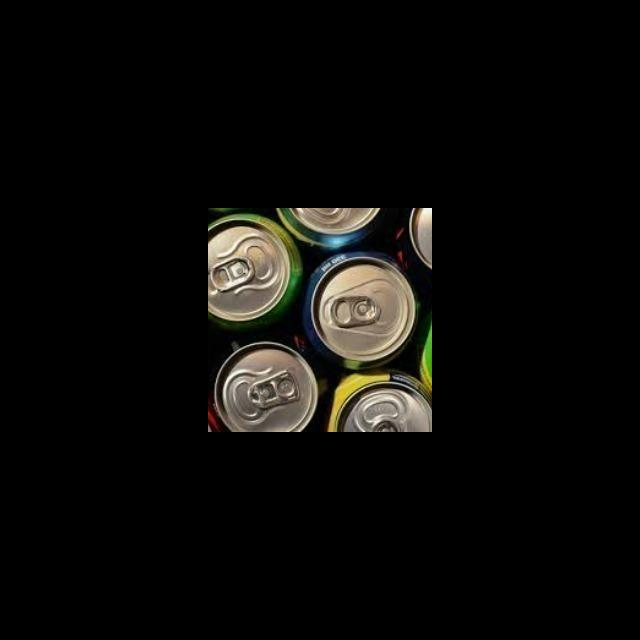metal: (302, 250, 414, 368), (208, 212, 305, 332), (208, 338, 329, 432), (325, 363, 432, 431)
